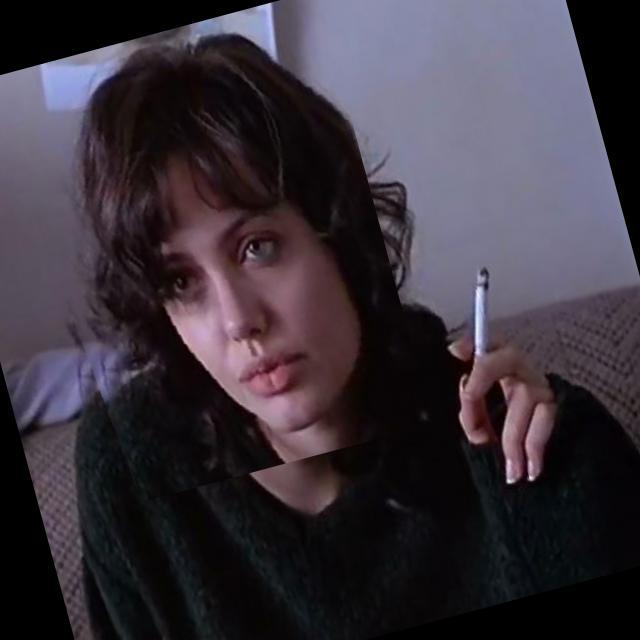cigarette: (442, 238, 538, 383)
